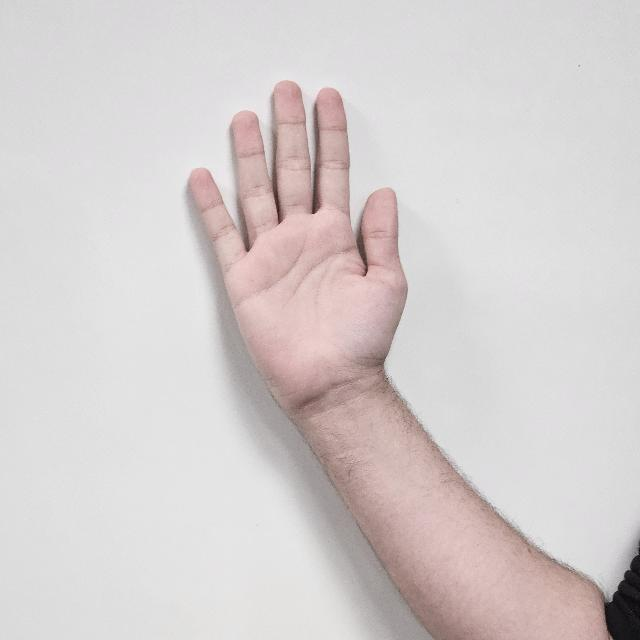X: (182, 80, 416, 407)
